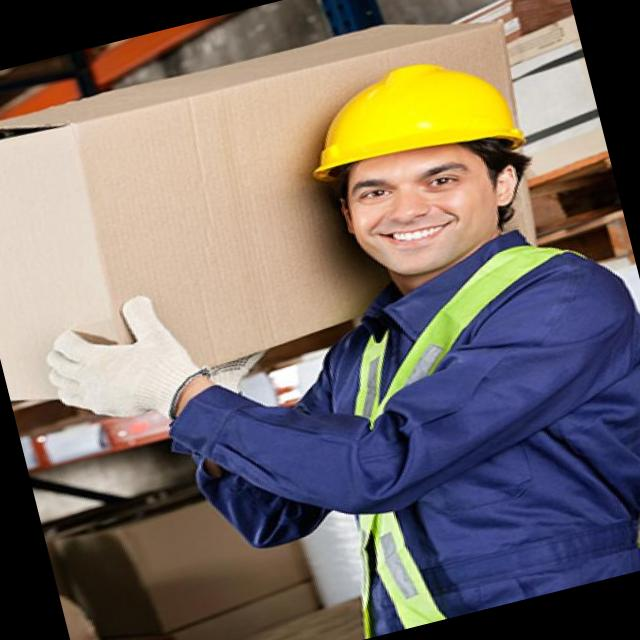Gloves: (278, 259, 640, 640), (35, 259, 234, 447)
Helmet: (251, 30, 565, 218)
